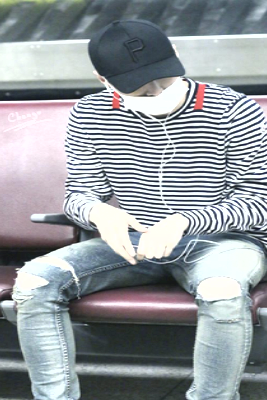mask_weared_incorrect: (112, 77, 191, 117)
